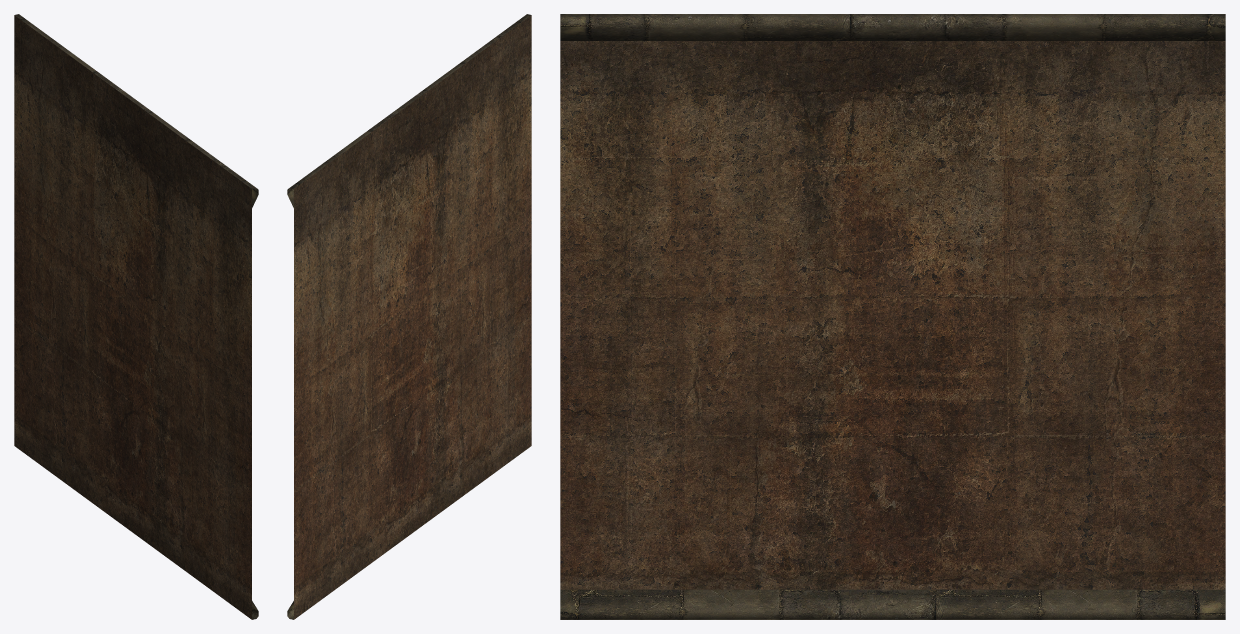
Rendered from NC_wall_extension.DAE.
The picture shows the model from 3 angles, left to right: view 1: azimuth 30°, elevation 25°; view 2: azimuth 150°, elevation 25°; view 3: azimuth 270°, elevation 25°; orthographic projection. The views are drawn at different scales.
Visible parts, largest first — view 1: NC_wall_extension, NC_wall_extension_details; view 2: NC_wall_extension, NC_wall_extension_details; view 3: NC_wall_extension, NC_wall_extension_details.
Part boxes in pixels (x1,y1,x2,y2): NC_wall_extension: (14,15,251,619); NC_wall_extension_details: (14,14,258,619); NC_wall_extension: (294,15,531,619); NC_wall_extension_details: (287,14,531,619); NC_wall_extension: (560,41,1225,589); NC_wall_extension_details: (560,14,1225,619).
Bounding box in the file's own units: 0.0635 × 4 × 4.
